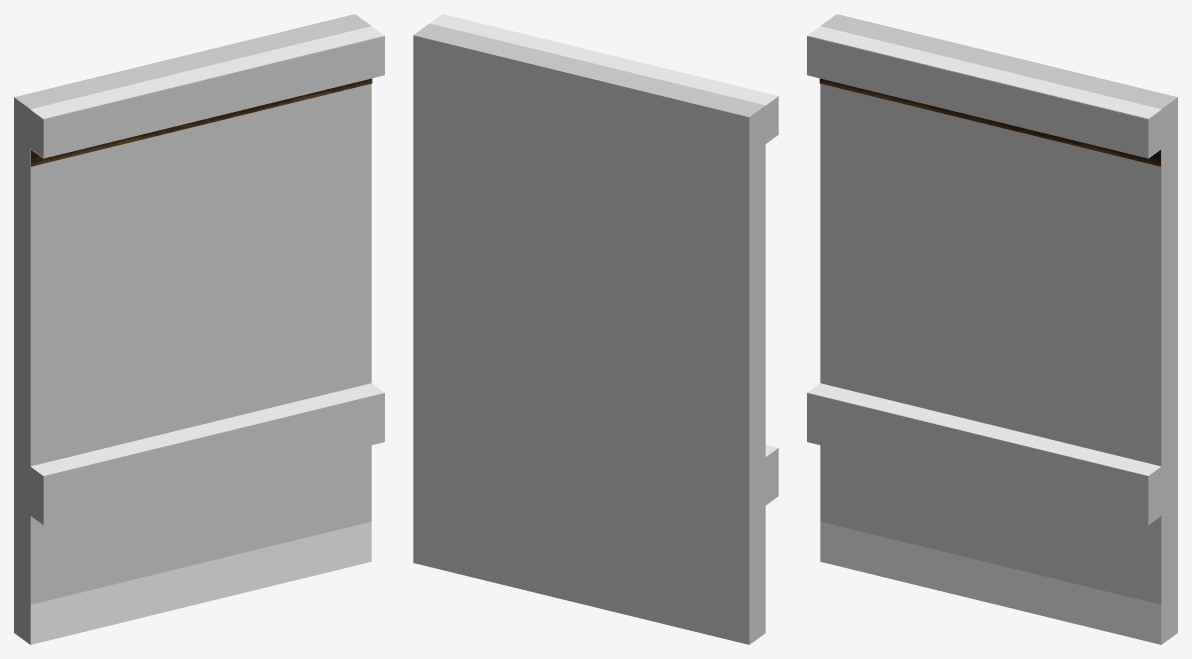
The model's file is Wall_A_Exterior_Window_02_x2.fbx.
3 views of the same model, side by side, from view 1: azimuth 30°, elevation 25°; view 2: azimuth 150°, elevation 25°; view 3: azimuth 330°, elevation 25° (orthographic).
Visible parts, largest first — view 1: C_Wall_A_Exterior_Window_02_x2, Wall_A_Exterior_Window_02_x2; view 2: C_Wall_A_Exterior_Window_02_x2, Wall_A_Exterior_Window_02_x2; view 3: C_Wall_A_Exterior_Window_02_x2, Wall_A_Exterior_Window_02_x2.
Boxes of the visible parts, x1,y1,x2,y2 form: C_Wall_A_Exterior_Window_02_x2: (14, 14, 384, 644); Wall_A_Exterior_Window_02_x2: (30, 26, 384, 644); C_Wall_A_Exterior_Window_02_x2: (413, 23, 778, 644); Wall_A_Exterior_Window_02_x2: (430, 14, 778, 456); C_Wall_A_Exterior_Window_02_x2: (807, 14, 1177, 644); Wall_A_Exterior_Window_02_x2: (807, 26, 1161, 644).
Bounding box in the file's own units: 2 × 3 × 0.3017.
